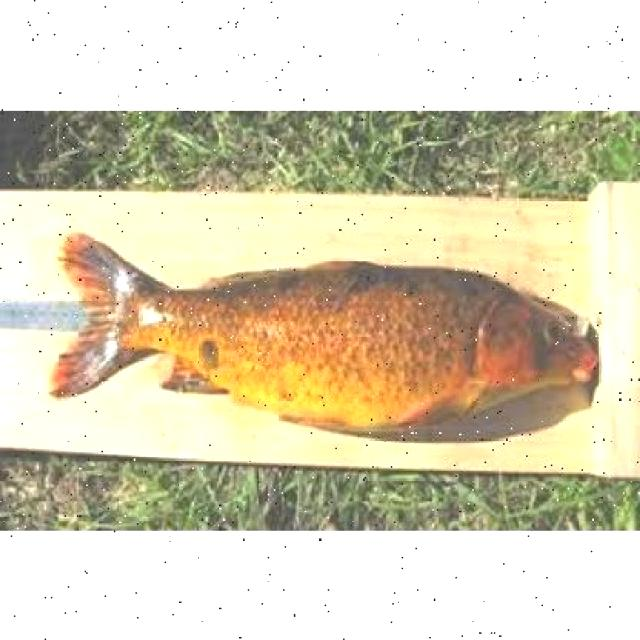ikan-mas: (56, 230, 602, 432)
